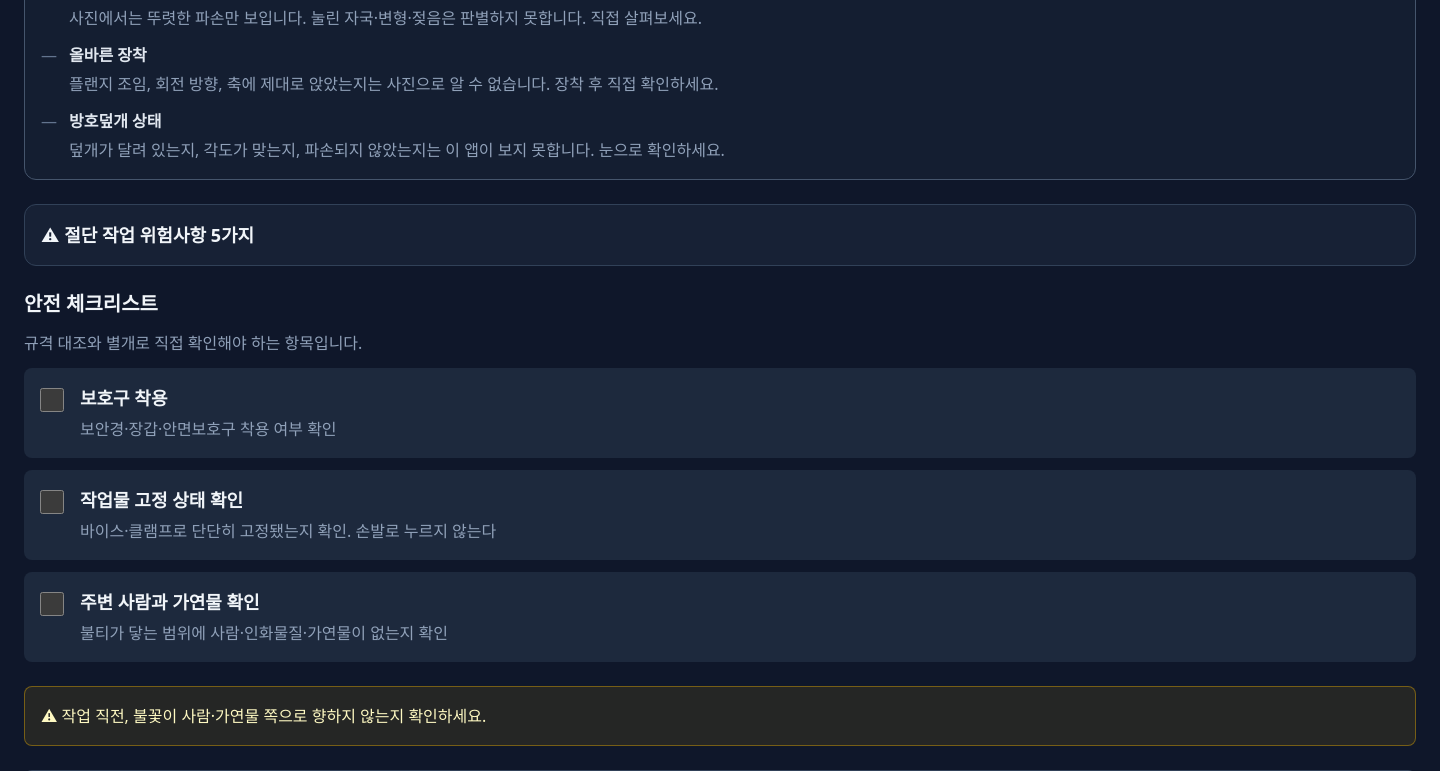
Scenario: 결과 화면 — 시험운전 절차 › 이상 없음으로 끝내면 저장이 열리고 문구가 점검 완료다
(page scrolled)
Click the checkbox labelled "보호구 착용 보안경·장갑·안면보호구 착용 여부 확인" at (52, 400), box [40, 388, 64, 412]
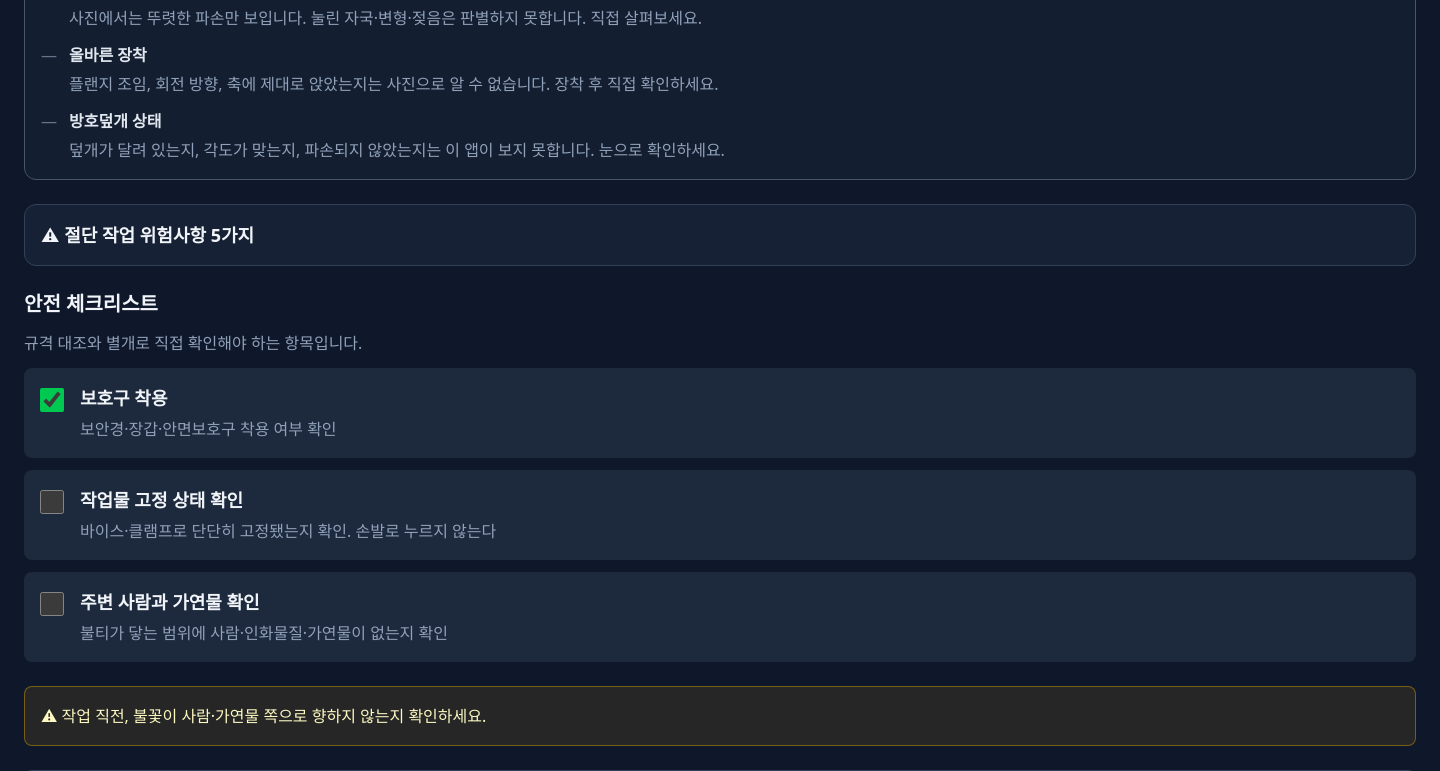
Click the checkbox labelled "작업물 고정 상태 확인 바이스·클램프로 단단히 고정됐는지 확인. 손발로 누르지 않는다" at (52, 502), box [40, 490, 64, 514]
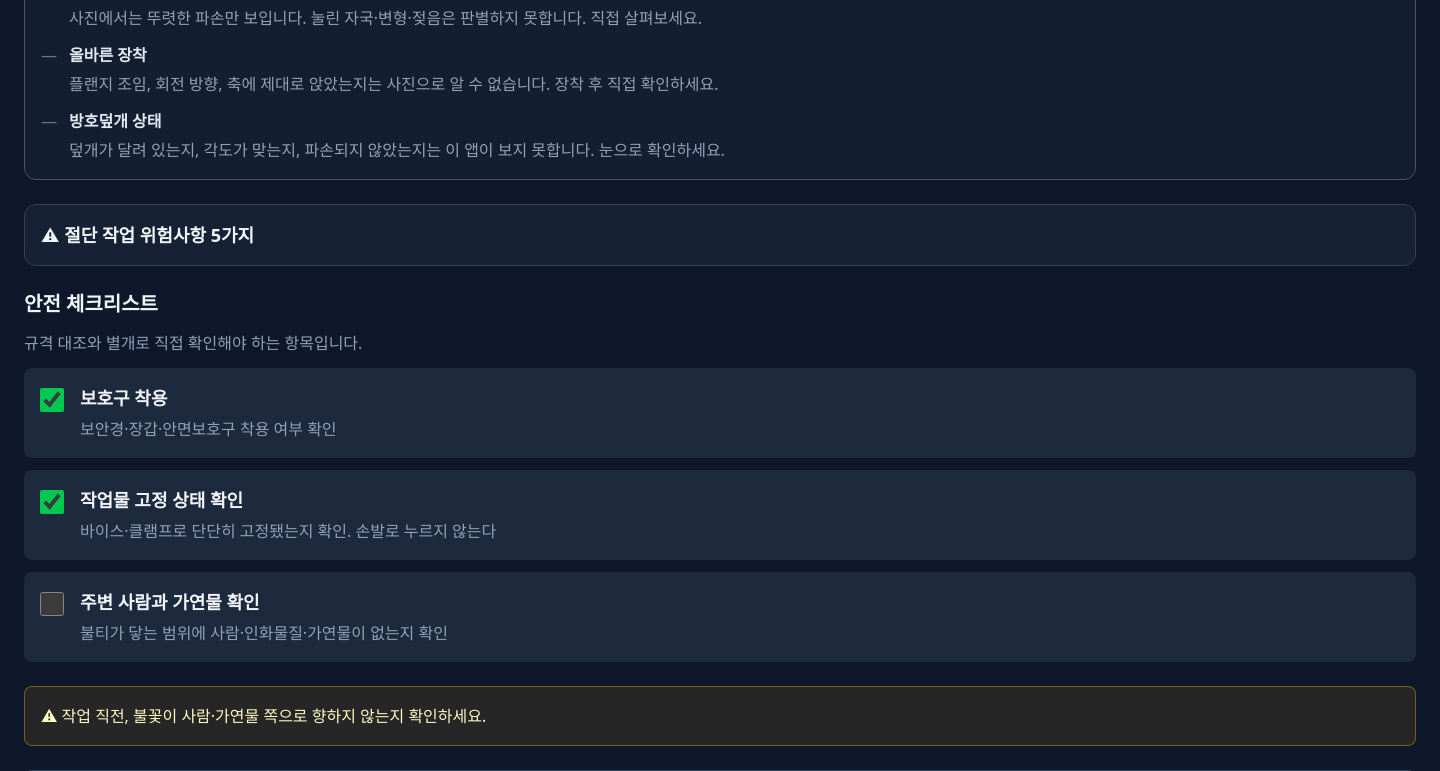
Click the checkbox labelled "주변 사람과 가연물 확인 불티가 닿는 범위에 사람·인화물질·가연물이 없는지 확인" at (52, 604), box [40, 592, 64, 616]
(page scrolled)
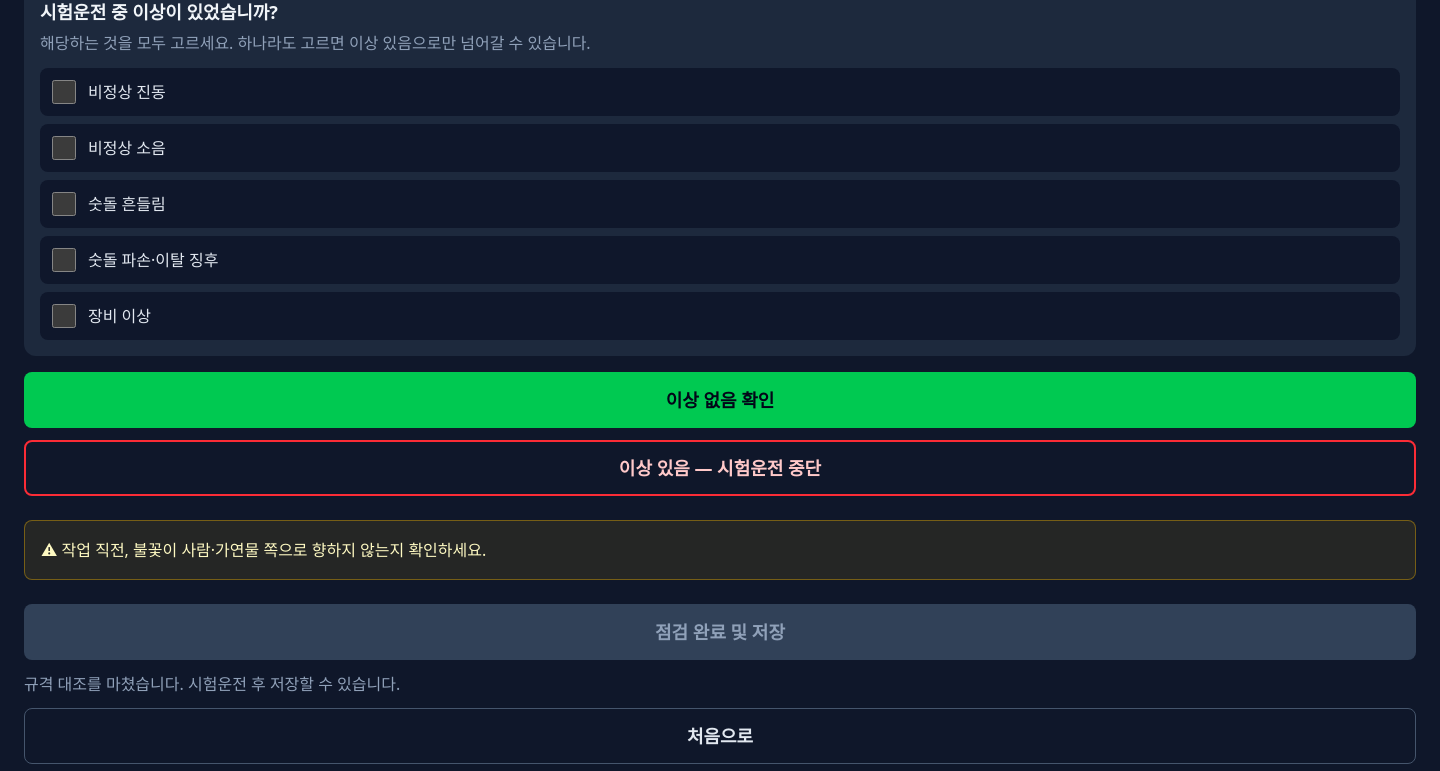
Click the button "이상 없음 확인" at (720, 400), box [24, 372, 1416, 428]
(page scrolled)
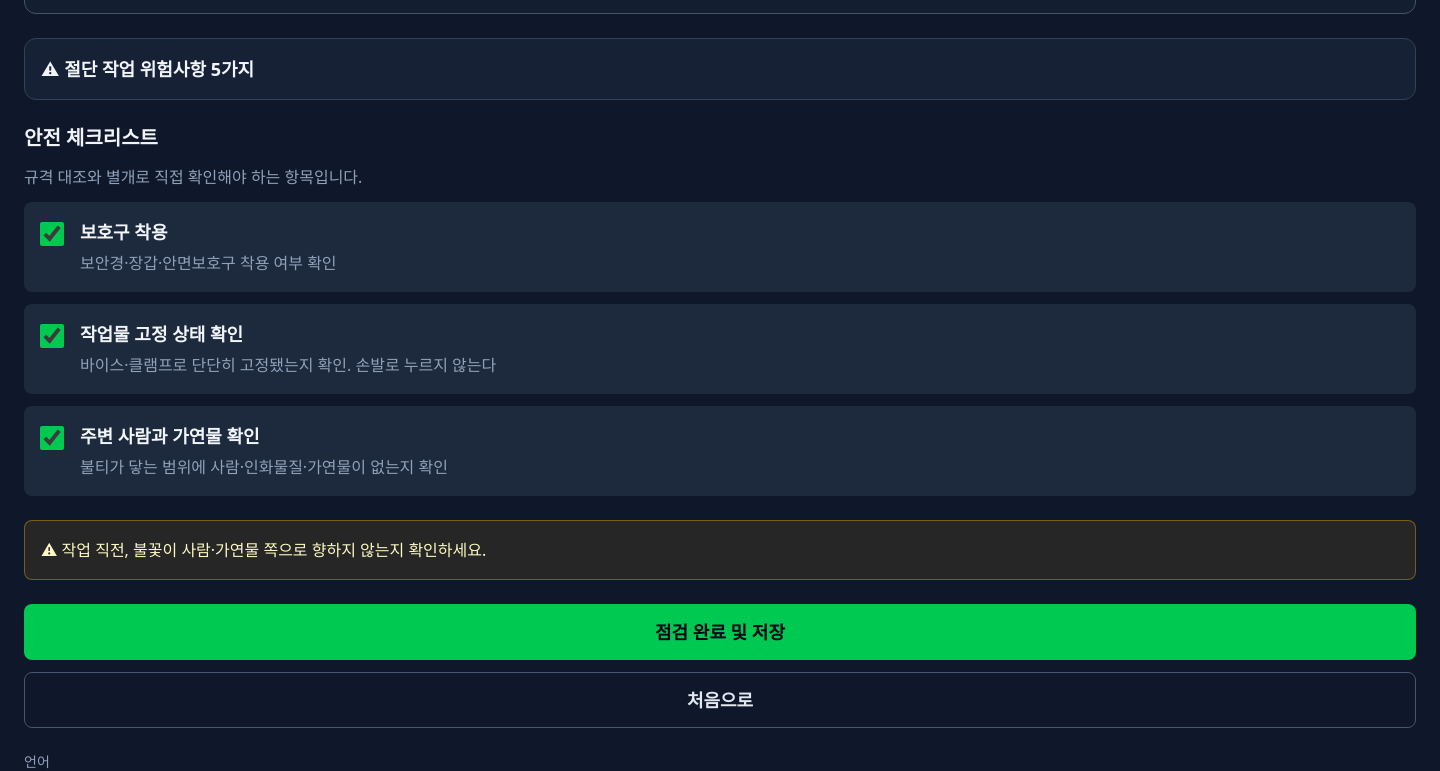
Check: the button "점검 완료 및 저장" is enabled, box [24, 604, 1416, 660]
